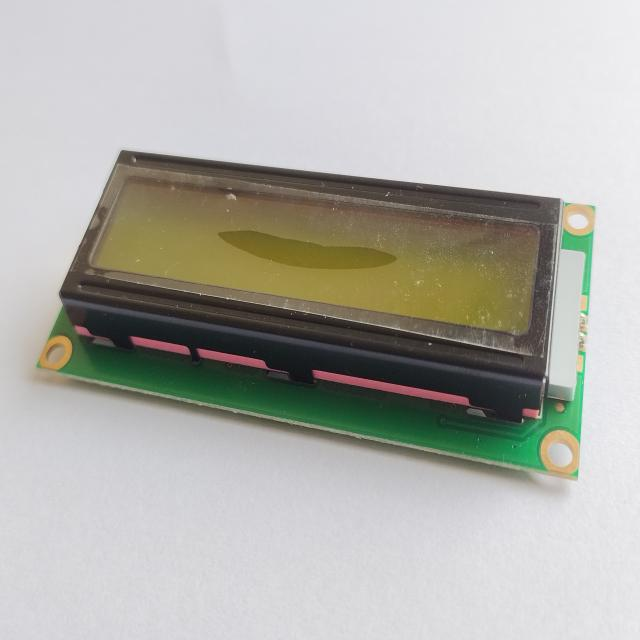lcd: (31, 134, 604, 488)
